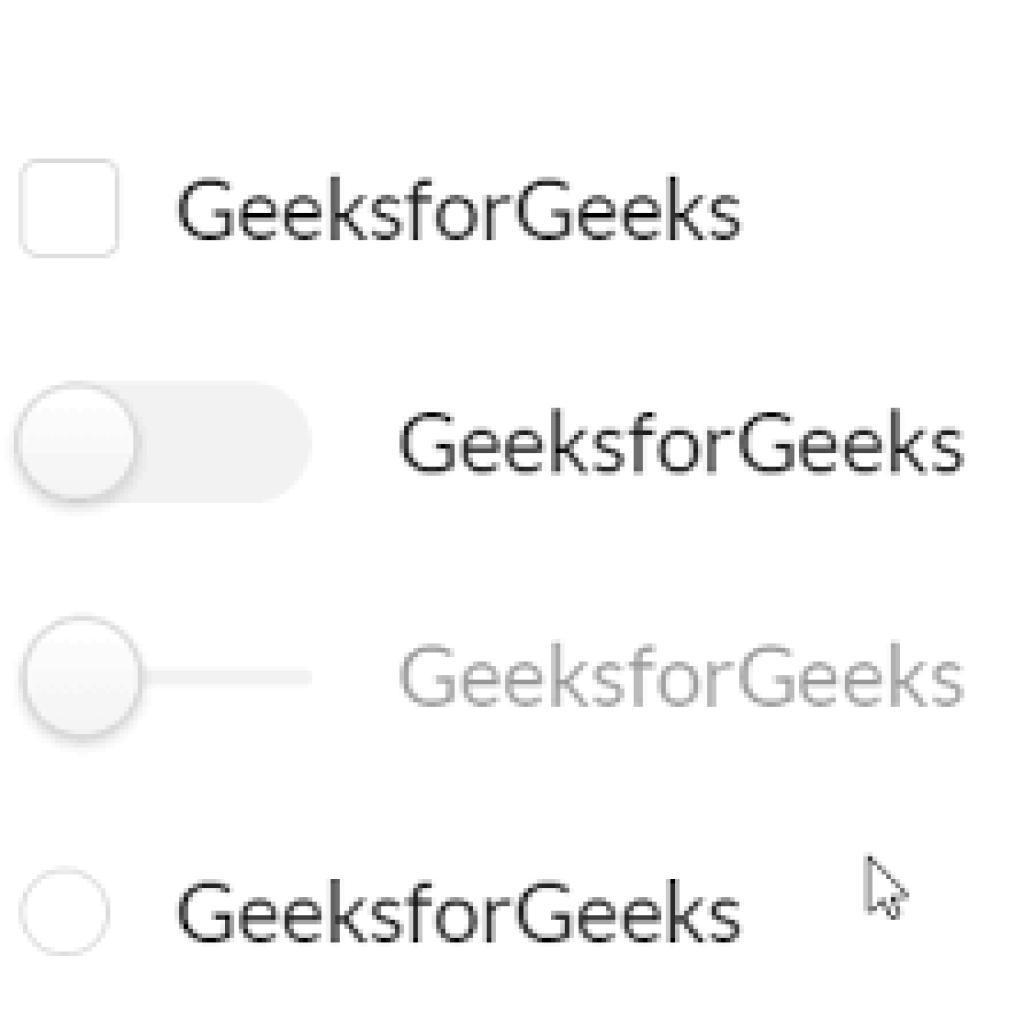checkbox: (18, 148, 127, 269)
radio: (12, 854, 119, 984)
slider: (19, 594, 313, 768)
switch: (13, 379, 318, 517)
